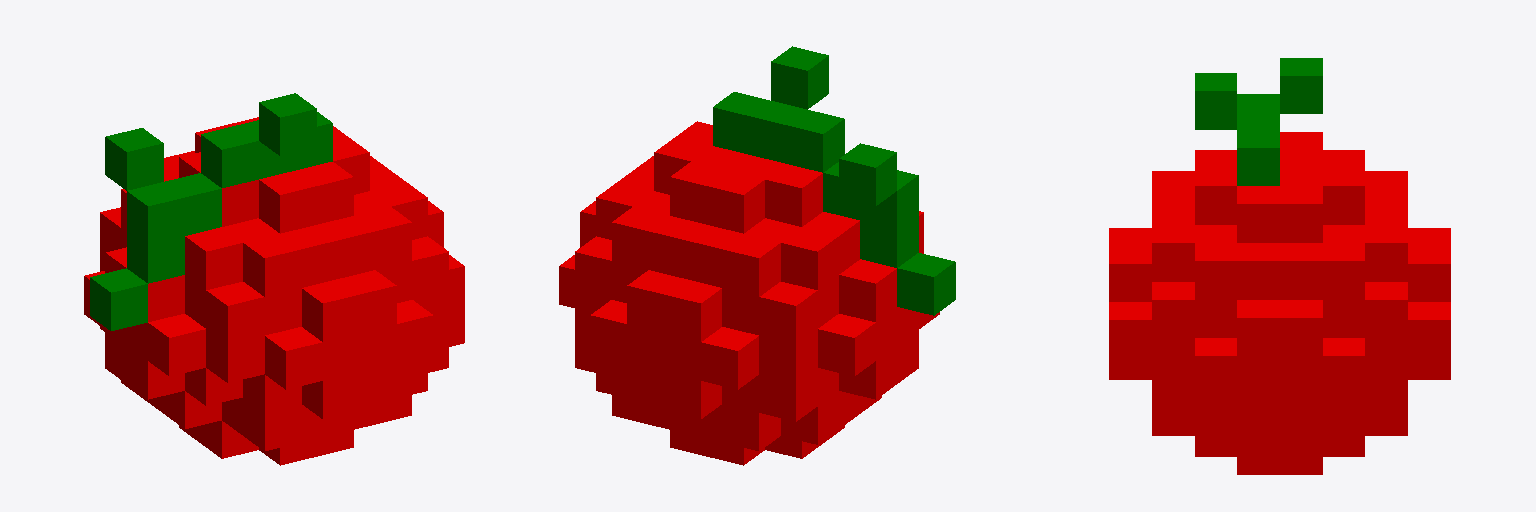
The picture shows the model from 3 angles: view 1: azimuth 30°, elevation 25°; view 2: azimuth 150°, elevation 25°; view 3: azimuth 270°, elevation 25°; orthographic projection.
Parts seen in each view (by area): view 1: object 1; view 2: object 1; view 3: object 1.
Part boxes in pixels (x1,y1,x2,y2): object 1: (84, 93, 464, 465); object 1: (559, 46, 955, 465); object 1: (1109, 58, 1450, 474).
Bounding box in the file's own units: 0.9 × 0.9 × 0.8.
1 materials, 1 textured.